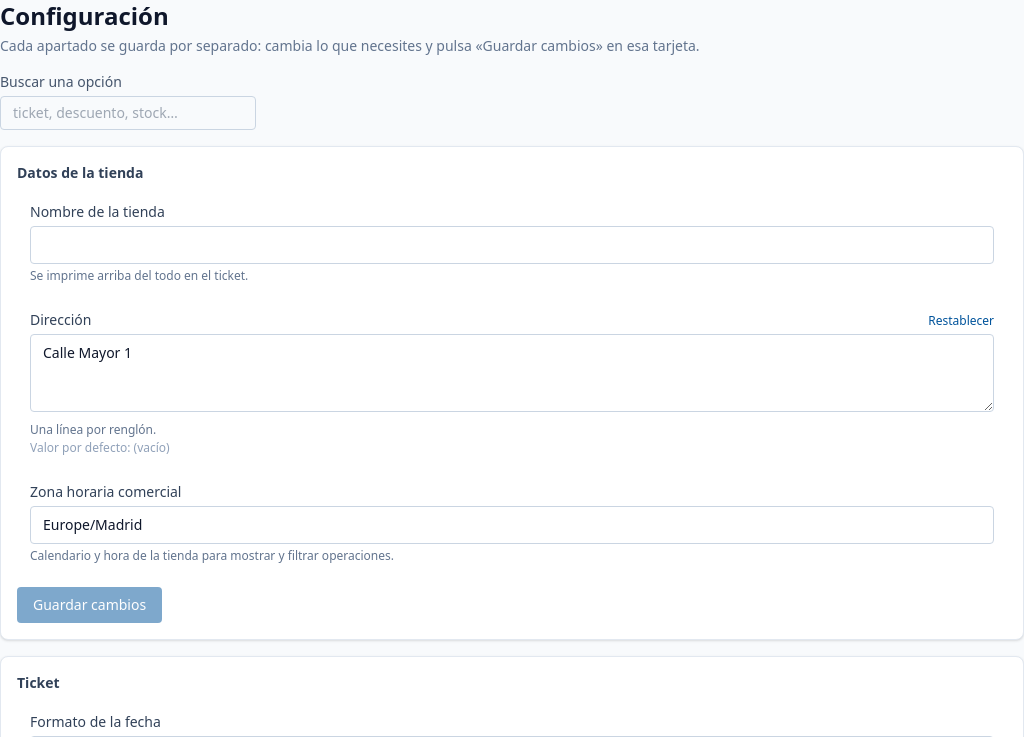
Test: SettingsPage — opciones del registro › filters the options by label and help text
Expected: the field labelled "Nombre de la tienda" is shown, [30,226,994,264]
Step 1. Type "descuento" into the field labelled "Buscar una opción" → (128, 113), box [0,96,256,130]
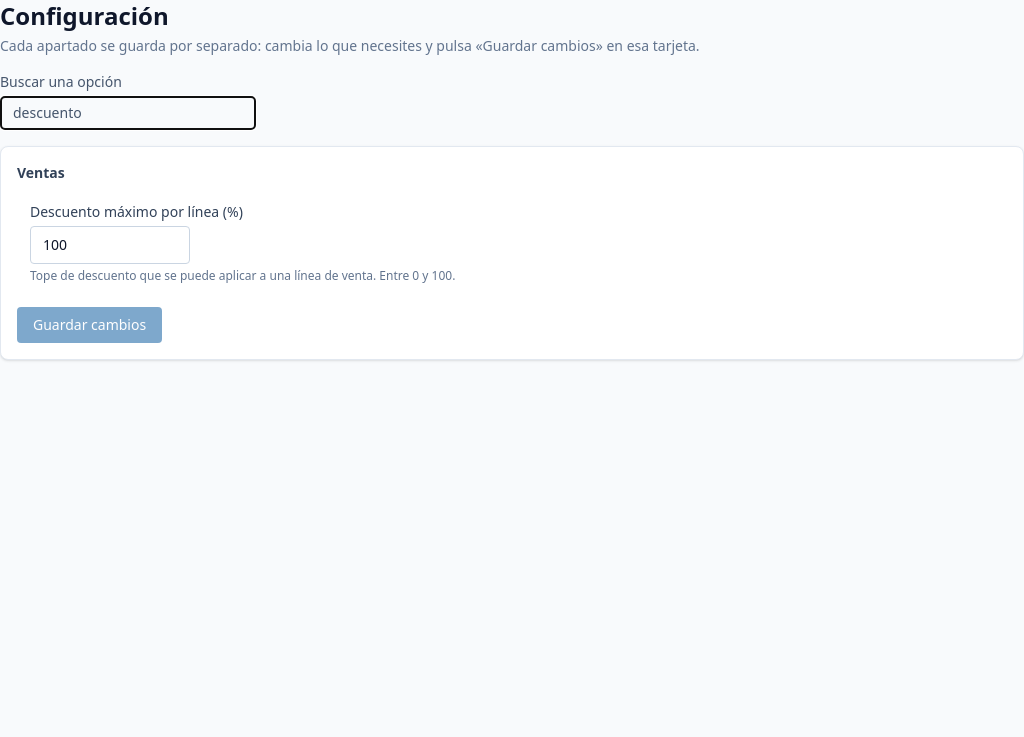
Expected: the field labelled "Descuento máximo por línea (%)" is shown, [30,226,190,264]
Expected: the label labelled "Nombre de la tienda" is gone
Expected: the heading "Datos de la tienda" is gone
